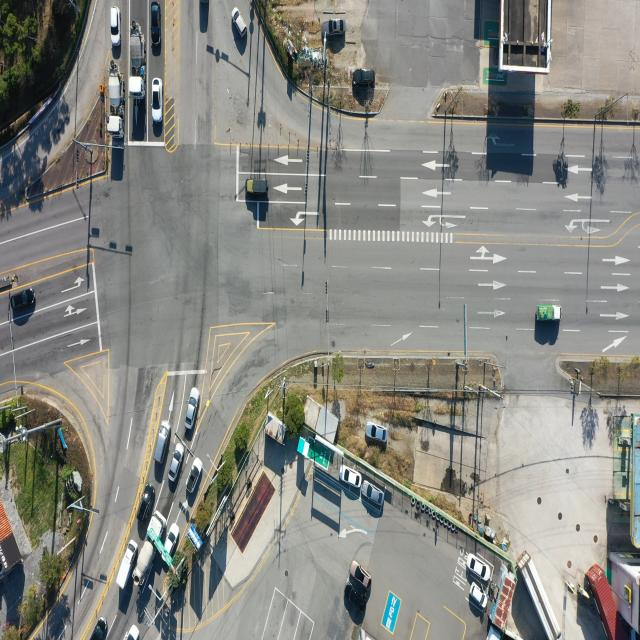car: (344, 587, 368, 622), (184, 388, 200, 432), (156, 421, 172, 465), (187, 459, 204, 497), (169, 442, 185, 481), (470, 555, 492, 583), (138, 488, 155, 523), (351, 562, 372, 590), (149, 1, 160, 52), (341, 464, 363, 488), (11, 290, 36, 310), (233, 8, 249, 39), (469, 583, 487, 610), (362, 484, 384, 506), (151, 78, 161, 122), (365, 423, 386, 442), (110, 6, 120, 45), (246, 178, 268, 195), (354, 68, 376, 85), (90, 617, 106, 640), (325, 19, 345, 36), (122, 625, 141, 640)
medium_truck: (522, 551, 563, 638), (129, 512, 166, 592), (109, 77, 127, 140), (130, 25, 144, 83)
small_truck: (118, 540, 139, 592), (538, 305, 562, 323)
